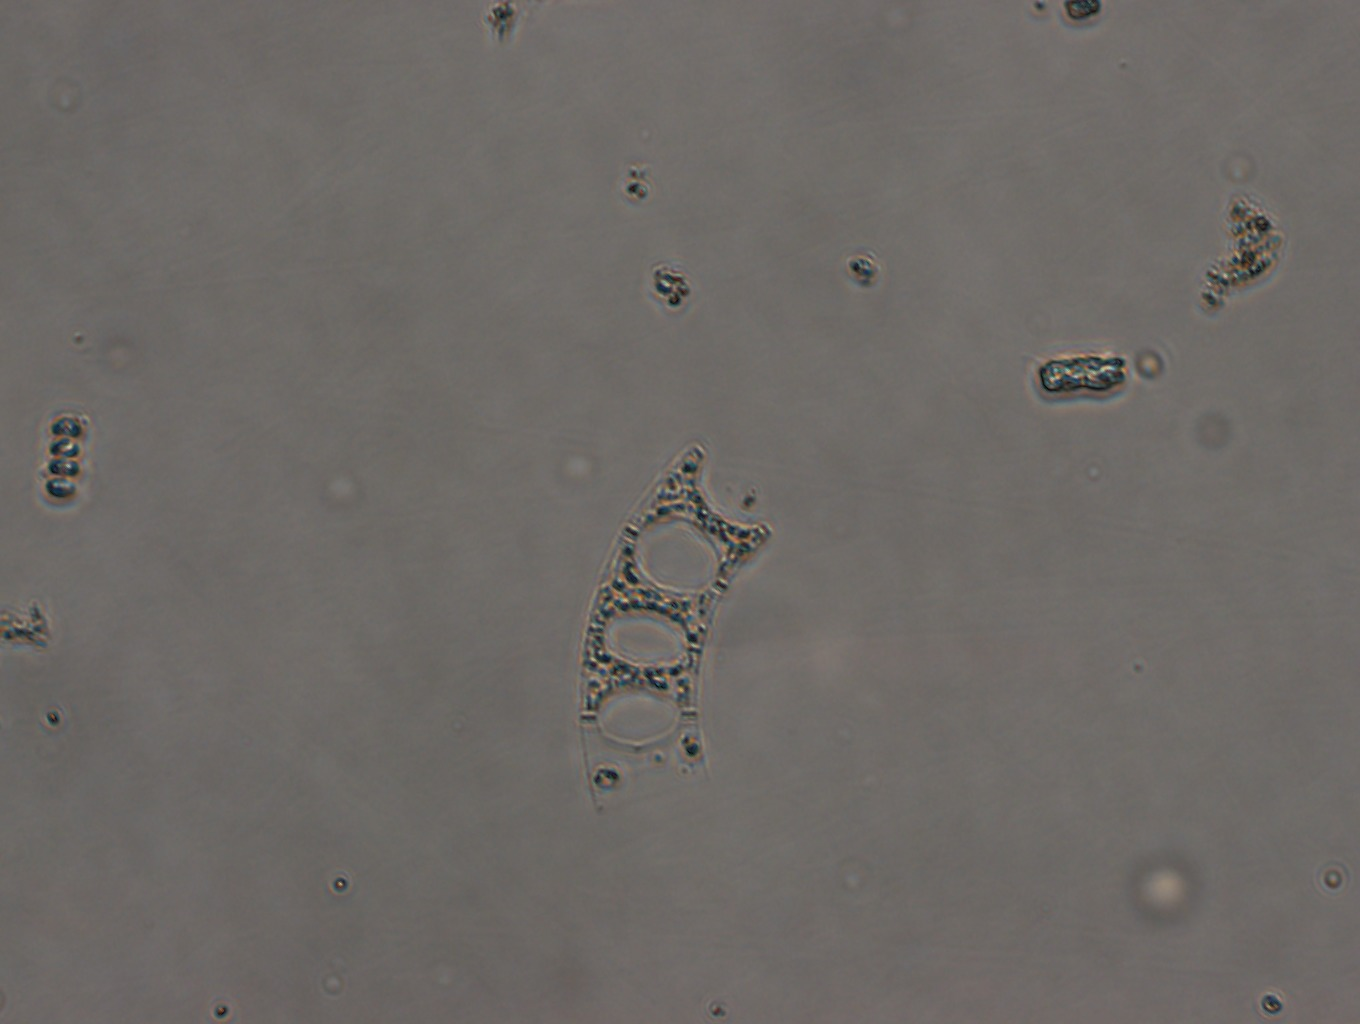eucampia: (576, 439, 776, 817)
skeletonema: (40, 411, 90, 508)
